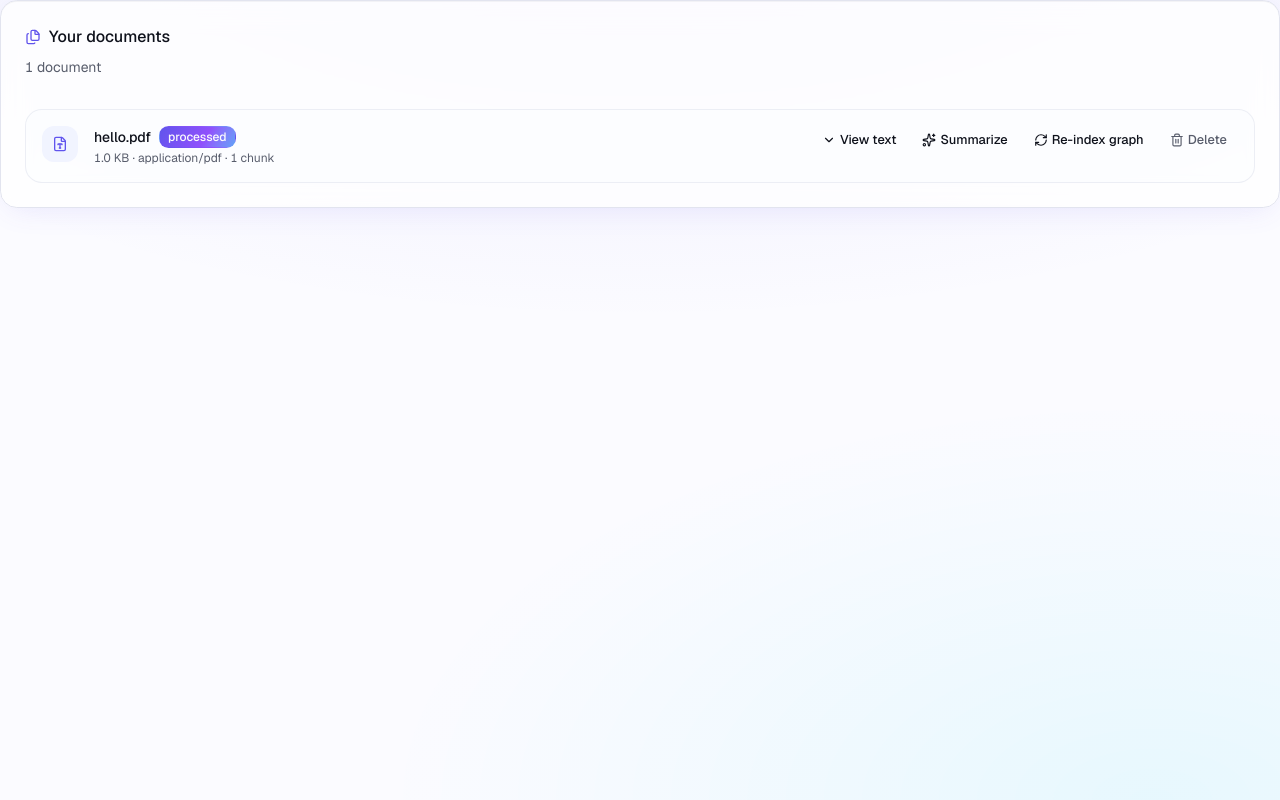
Test: <DocumentsList /> › clicking 'Re-index graph' POSTs the reindex endpoint and shows success
Click the button with test id "reindex-graph-button": (1089, 140) left=1023, top=126, right=1155, bottom=154
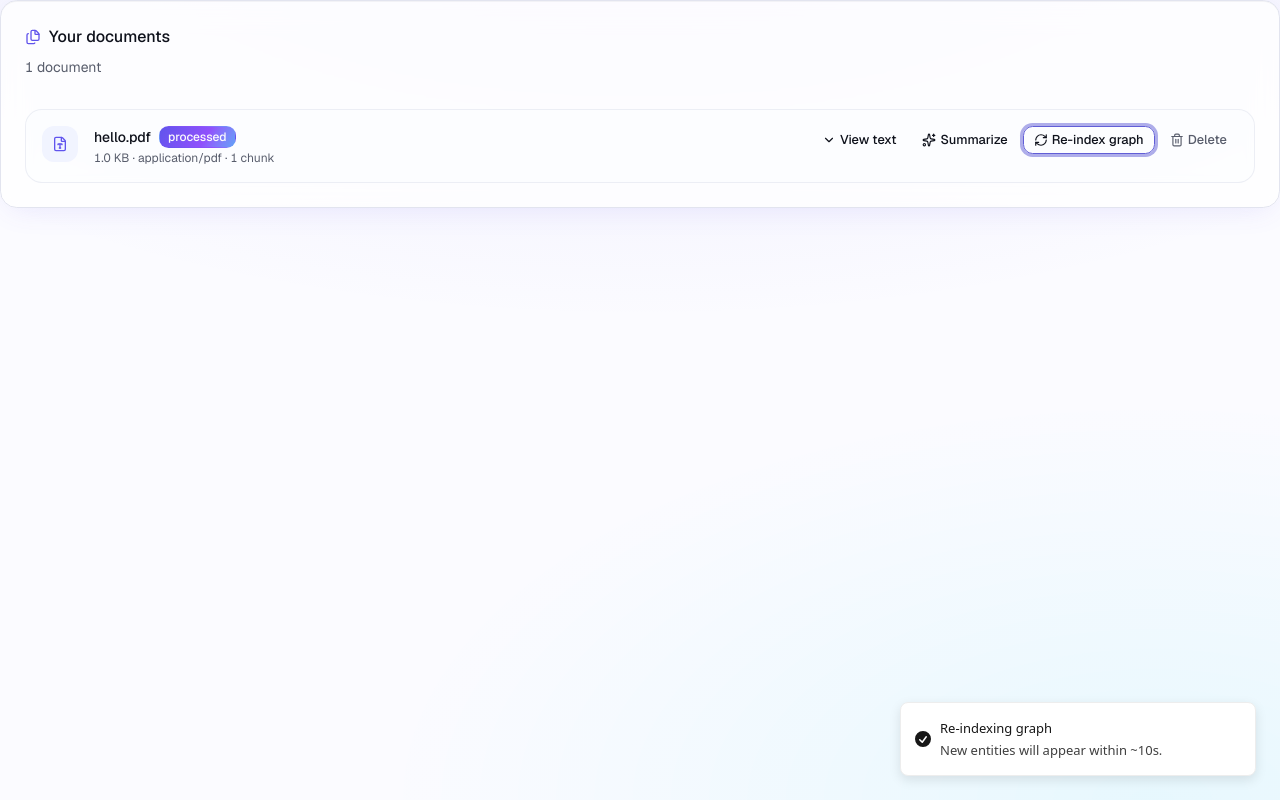
Now the text "Re-indexing graph" is shown, box left=940, top=719, right=1052, bottom=737
